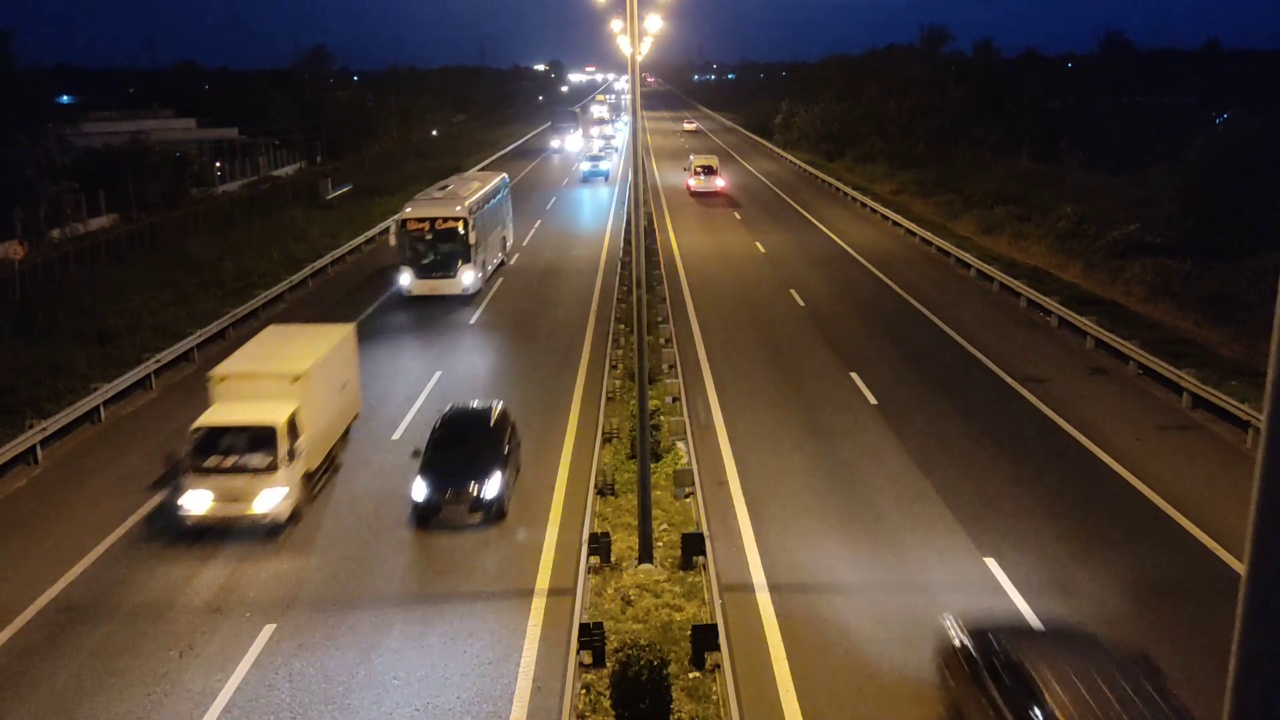bus: (396, 170, 515, 298)
car: (407, 397, 523, 529), (578, 153, 613, 184)
truck: (162, 320, 364, 537)
